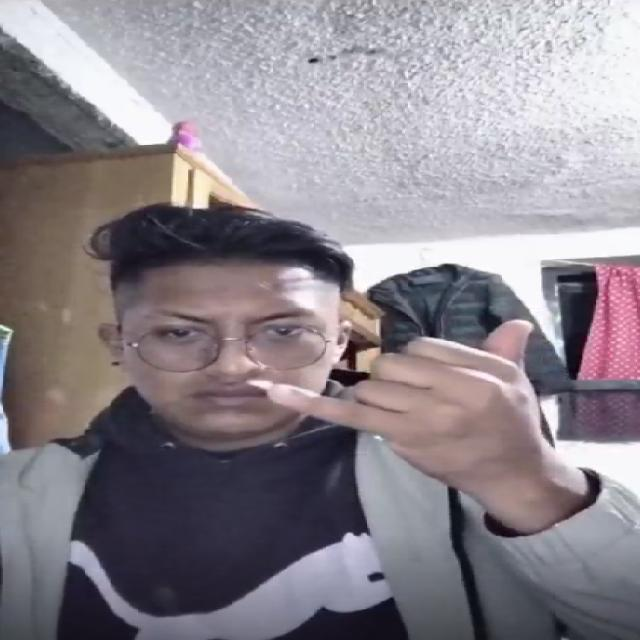Y: (218, 319, 588, 469)
